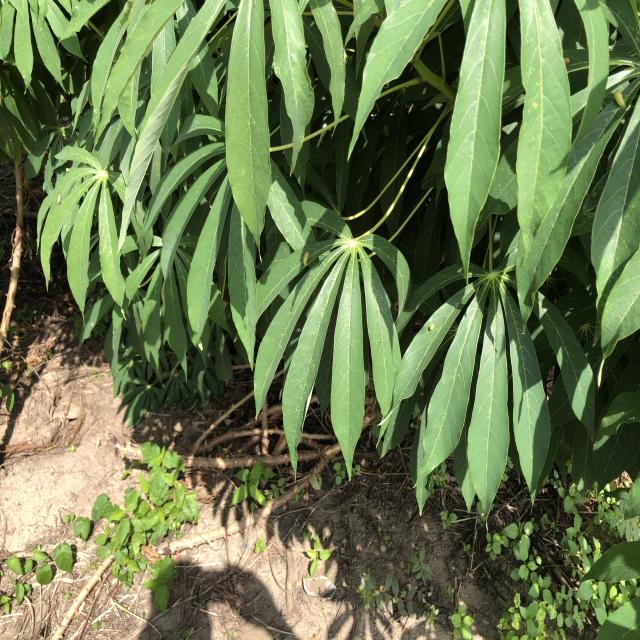Mosca: (54, 185, 68, 212), (424, 315, 432, 338)
